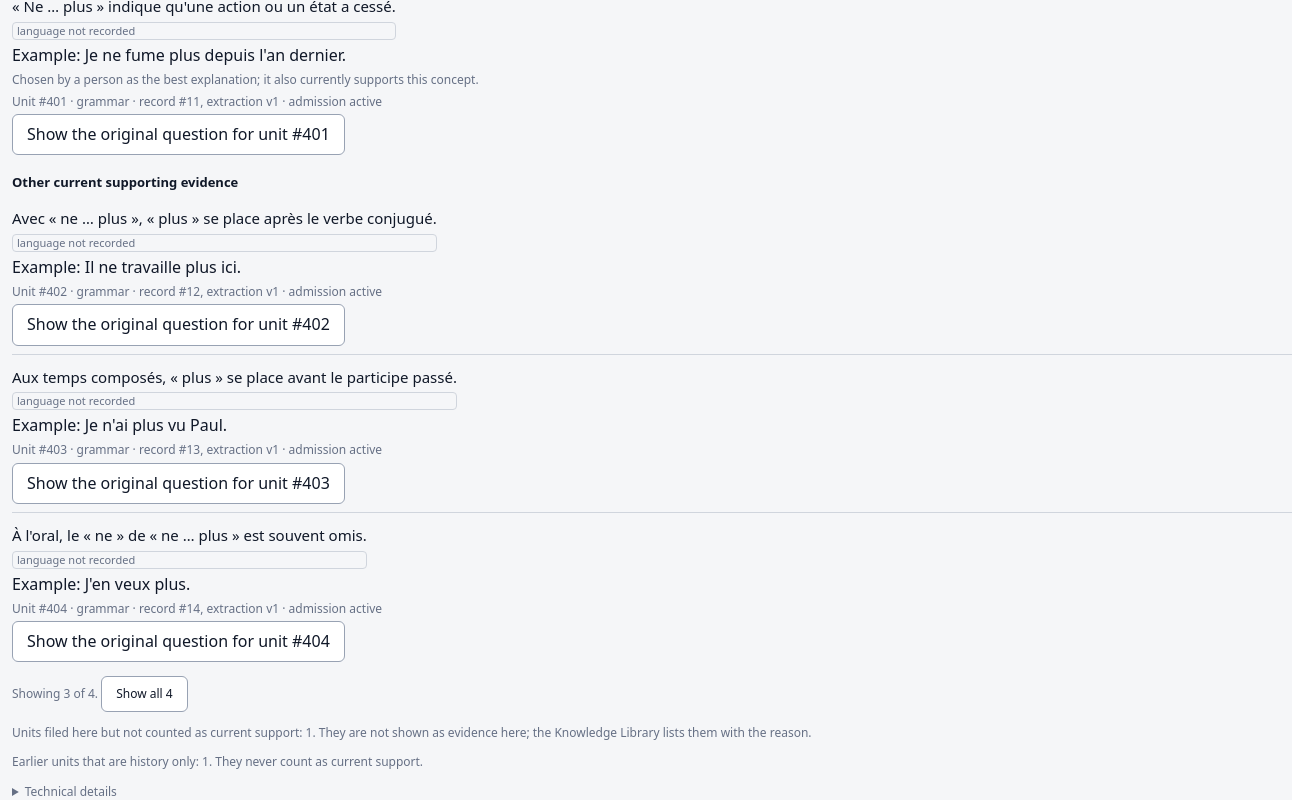
Test: ConceptContent › shows the preferred unit and current support only, counting non-supporting and historical units
(page scrolled)
Expected: the element named "Contents of concept #40" shows "Chosen by a person as the best explanation; it also currently supports this concept.", [12,71,479,88]
Expected: the text "« Ne … plus » se combine avec « jamais » : « ne … plus jamais »." is not shown
Step 1. Click the button "Show all 4" → (144, 694), box [101,676,188,712]
(page scrolled)
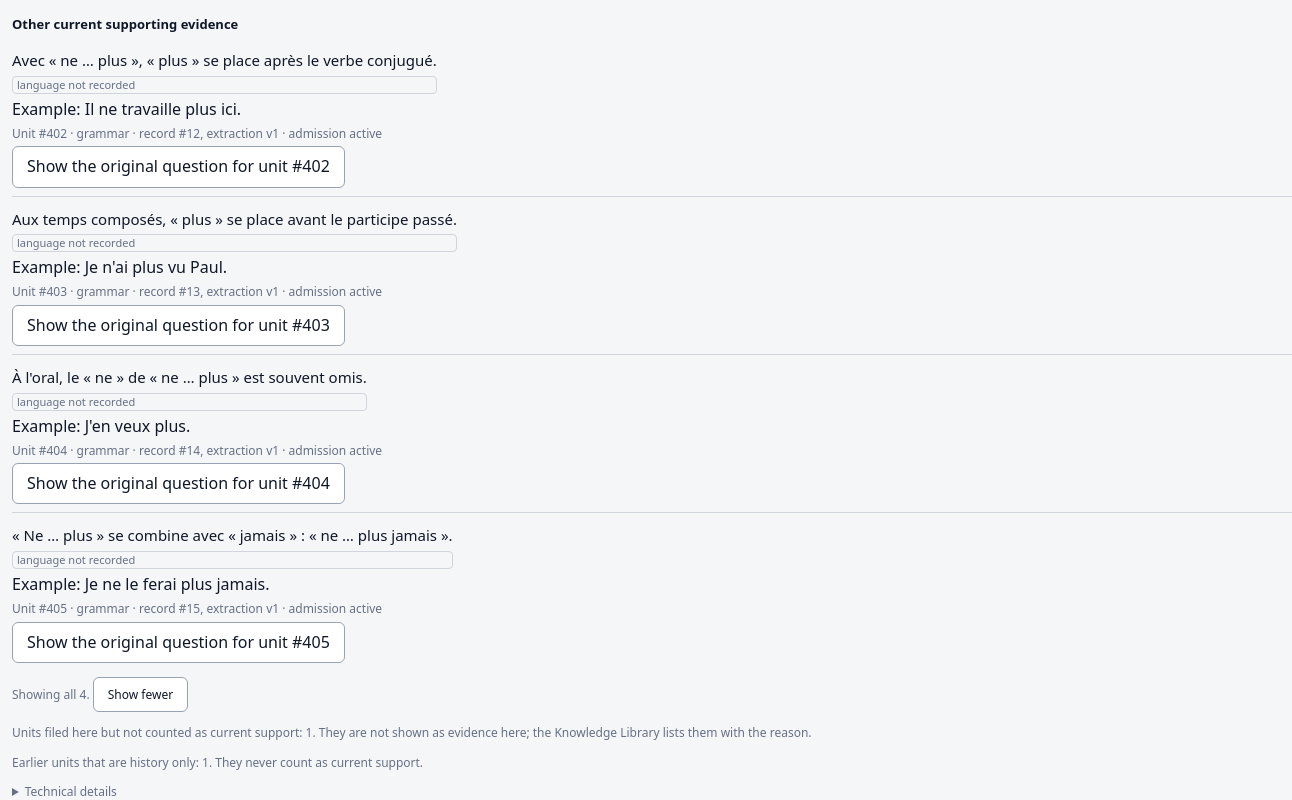
Expected: the text "« Ne … plus » se combine avec « jamais » : « ne … plus jamais »." is shown, [12,525,453,547]
